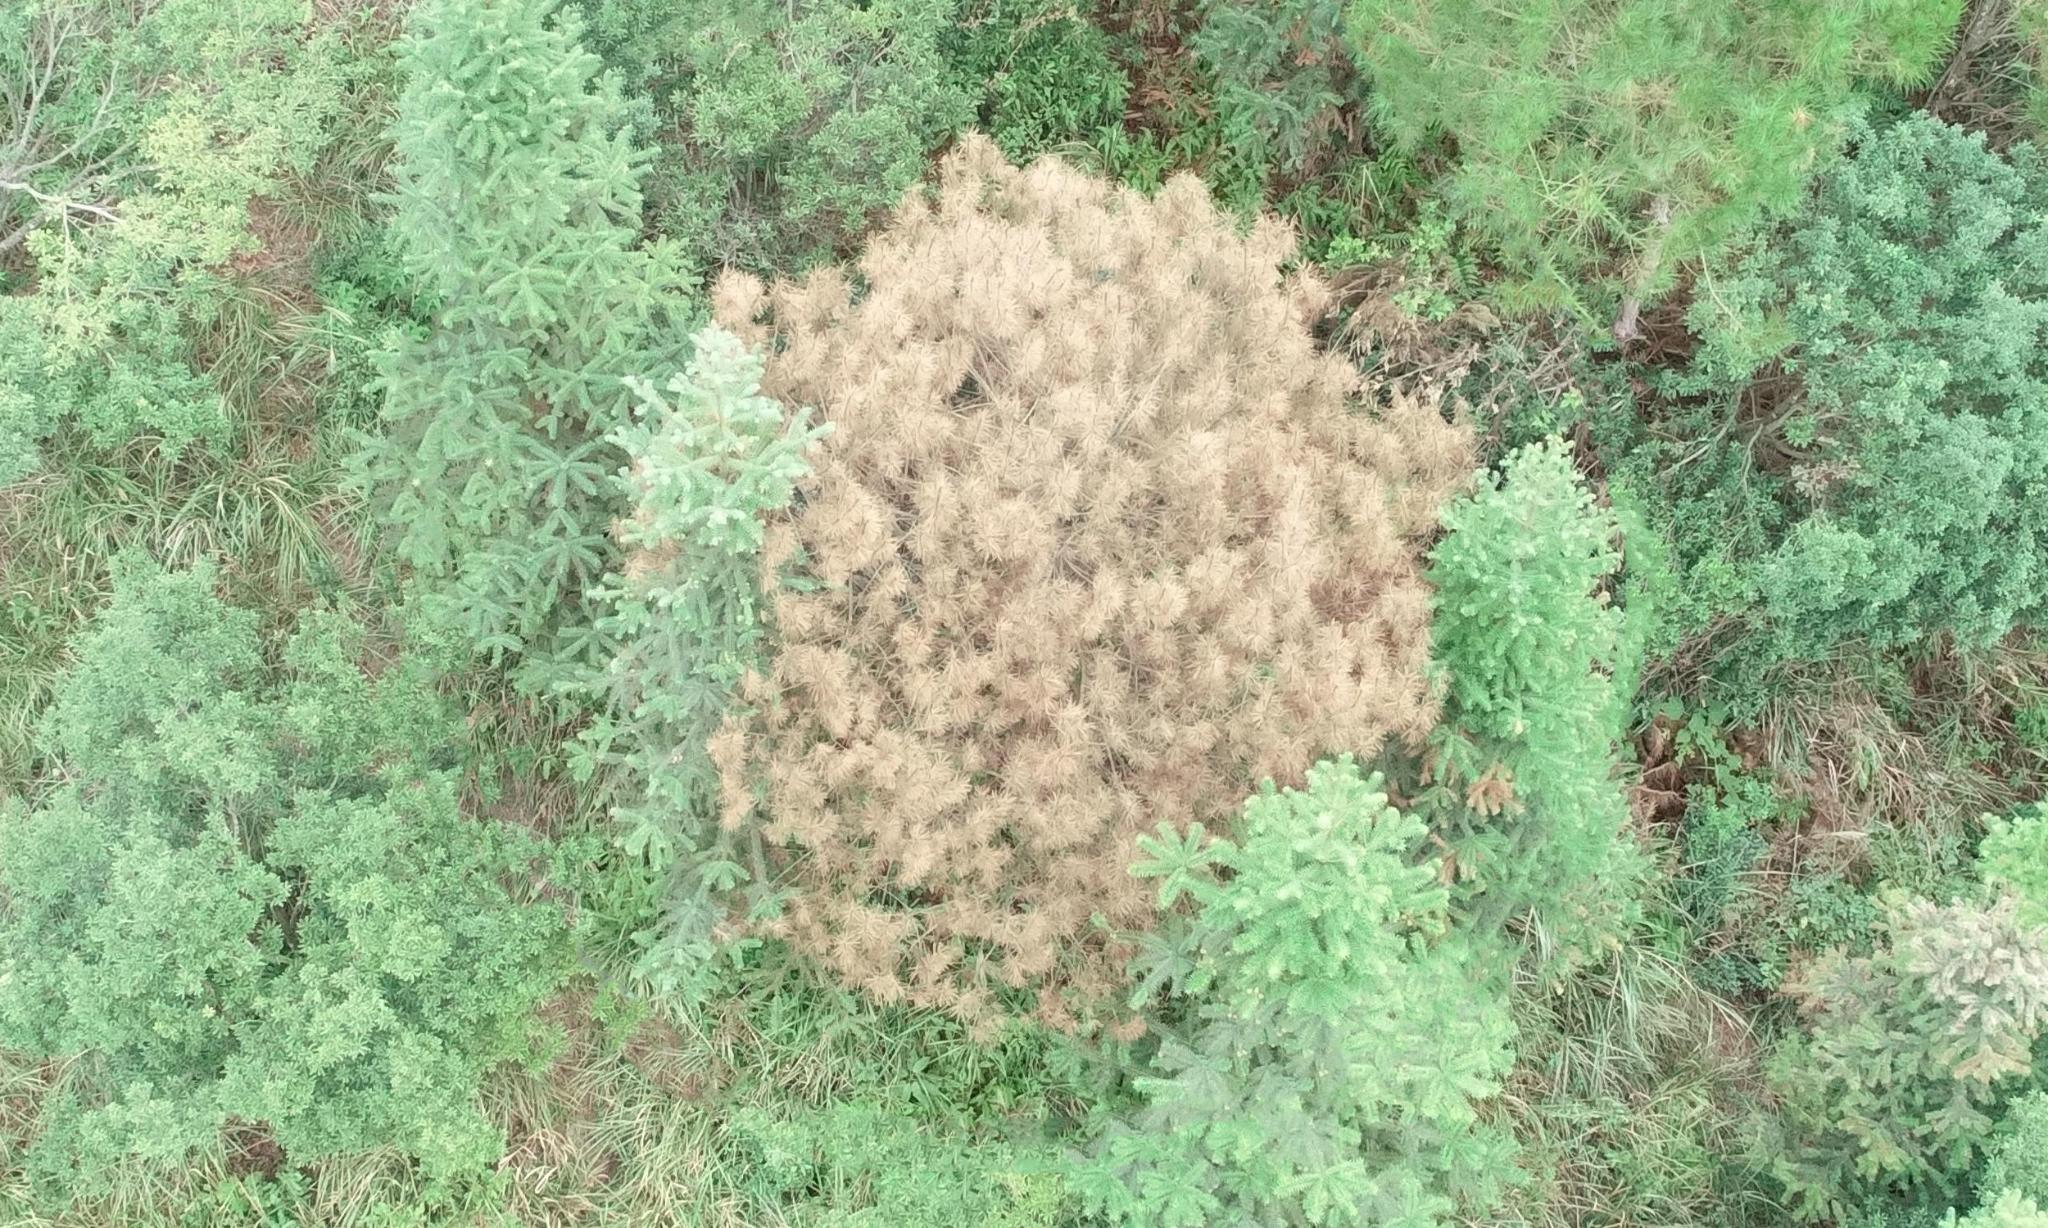heavy: (712, 137, 1457, 993)
